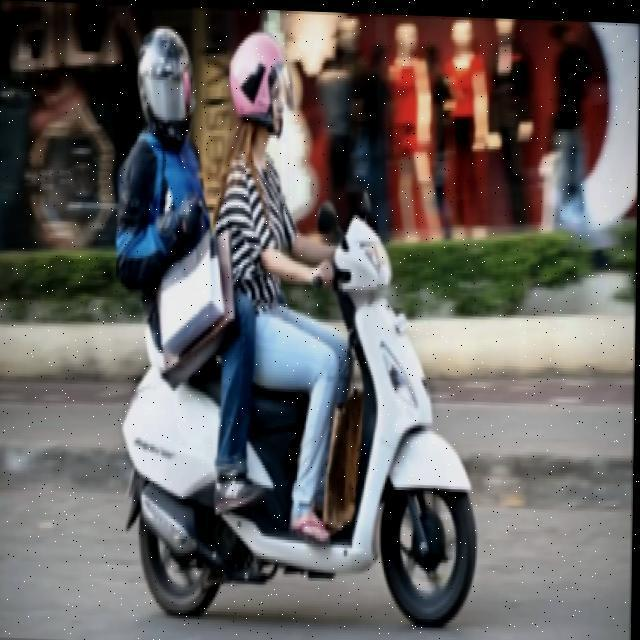Helmet: (220, 18, 304, 142), (131, 21, 198, 145)
